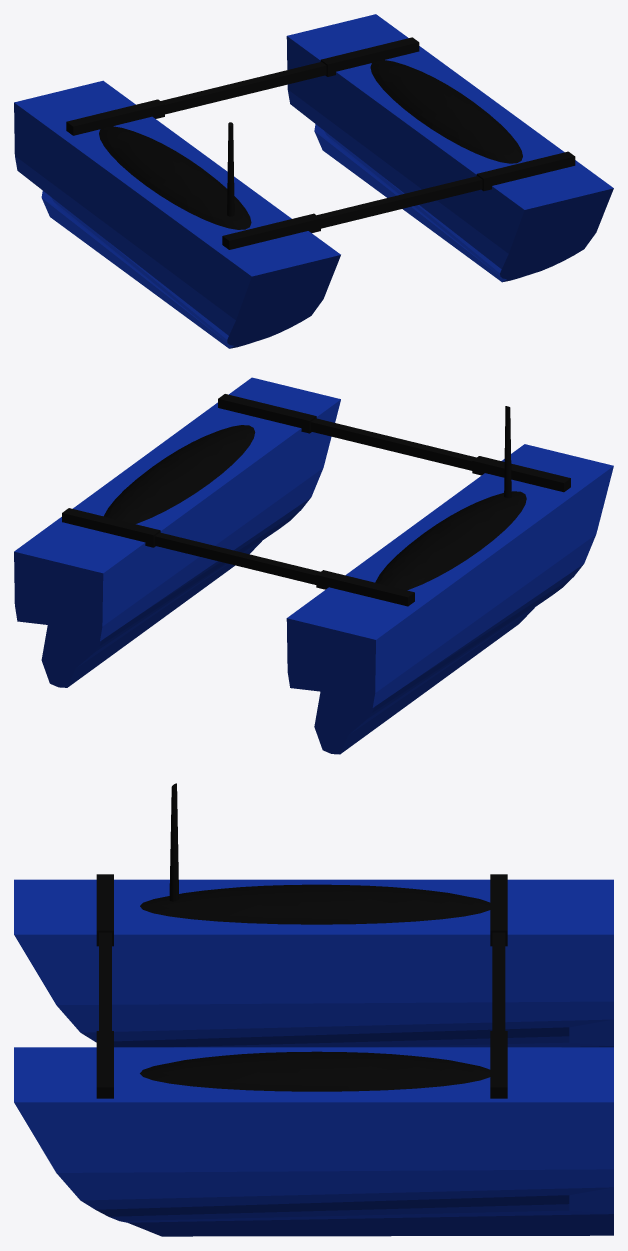
The model's file is usv.obj.
3 renders of one model, top to bottom at view 1: azimuth 30°, elevation 25°; view 2: azimuth 150°, elevation 25°; view 3: azimuth 270°, elevation 25°, orthographic. The views are drawn at different scales.
Visible parts, largest first — view 1: blueboat_Cylinder.007; view 2: blueboat_Cylinder.007; view 3: blueboat_Cylinder.007.
Part boxes in pixels (x1,y1,x2,y2): blueboat_Cylinder.007: (14, 14, 613, 348); blueboat_Cylinder.007: (14, 377, 613, 754); blueboat_Cylinder.007: (14, 783, 613, 1236).
Bounding box in the file's own units: 2.11 × 1.23 × 2.4.
